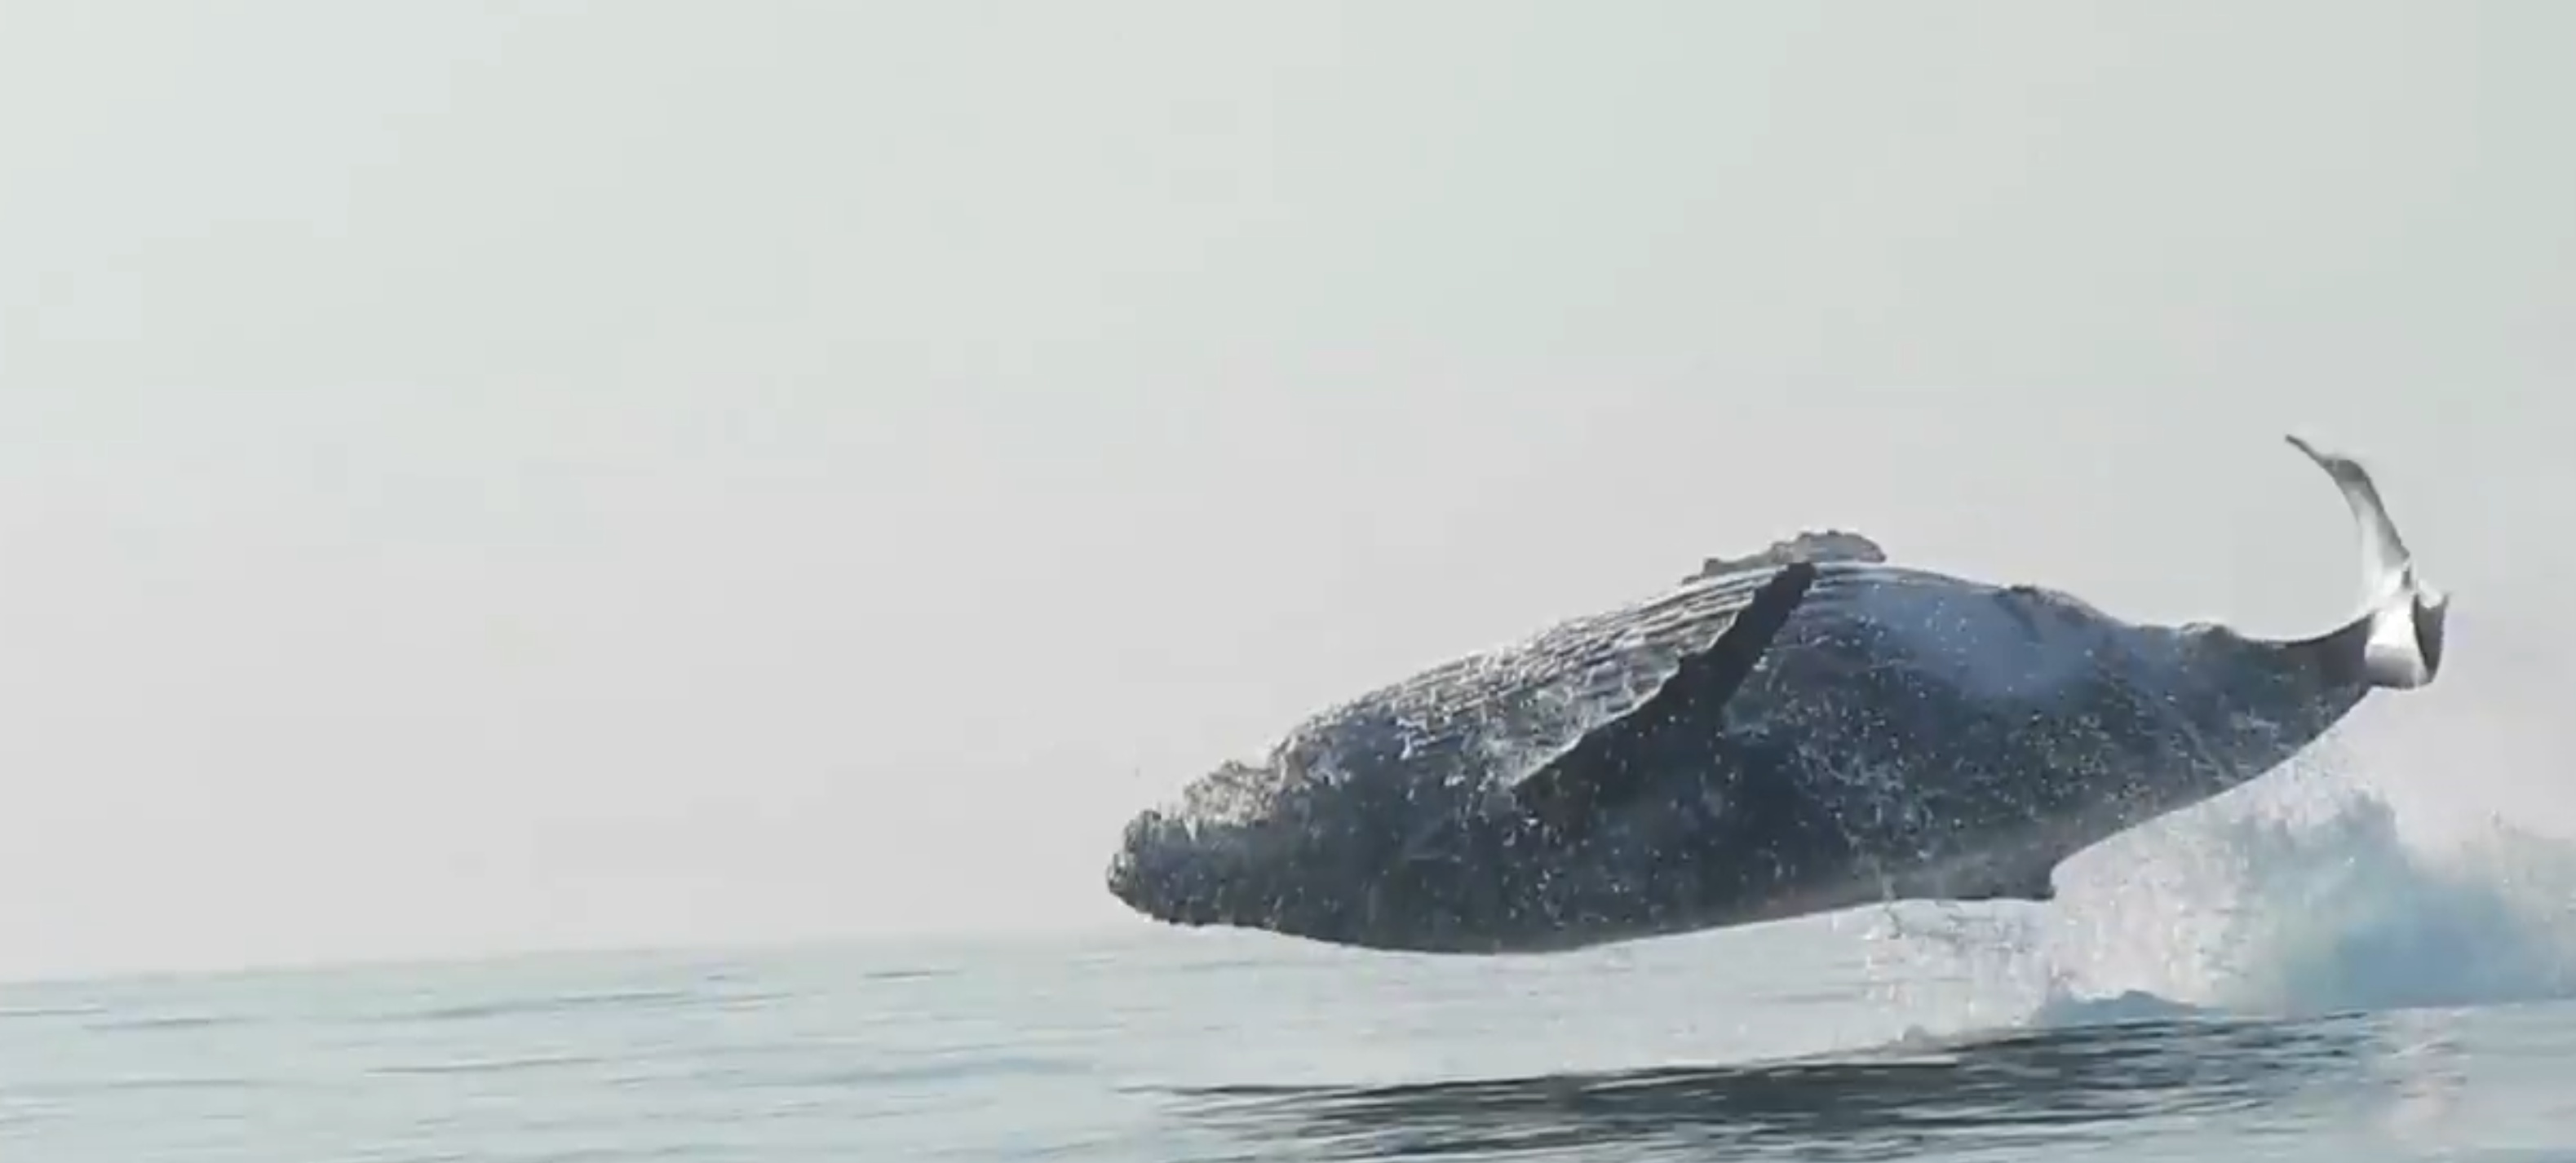humpback: (1076, 519, 2443, 956)
